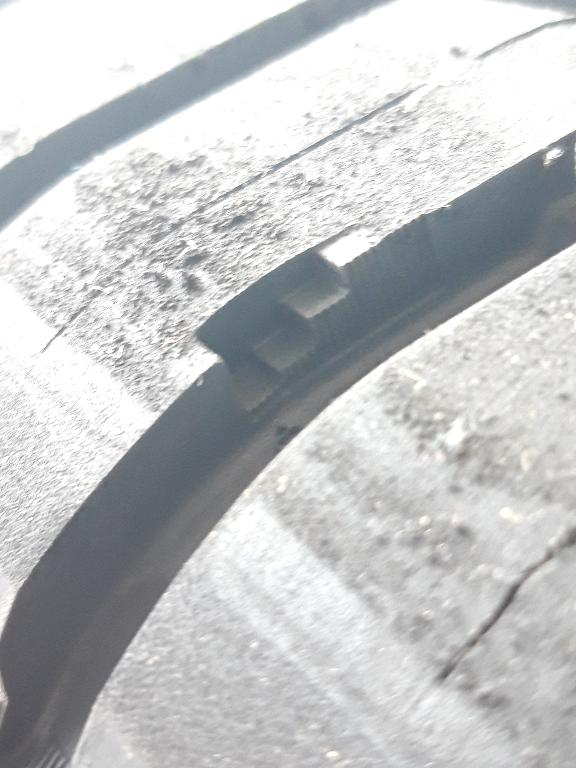temoin:75: (186, 219, 402, 431)
